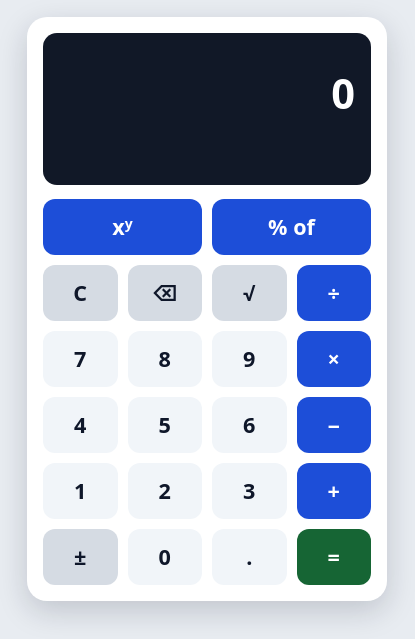
App › shows the server message and keeps the expression visible on an API error
Click the button "5".
click(165, 425)  # box [128,397,202,453]
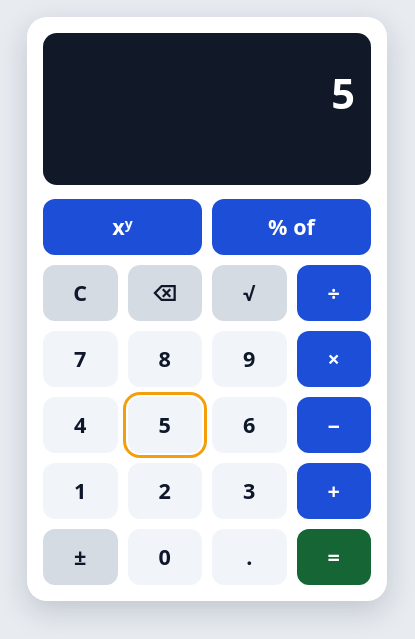
Click the button named "divide".
click(334, 293)  # box [296,265,371,321]
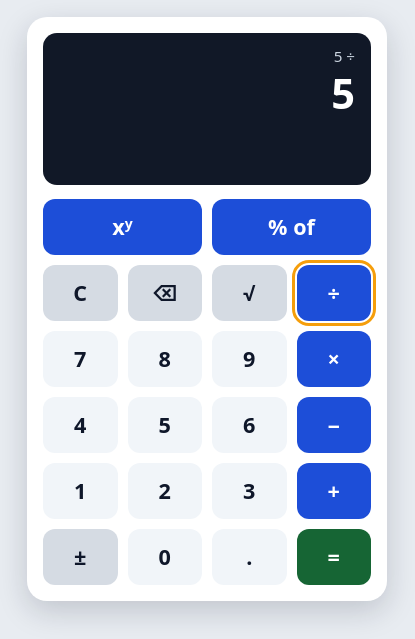
Click the button "0".
click(165, 557)  # box [128,529,202,585]
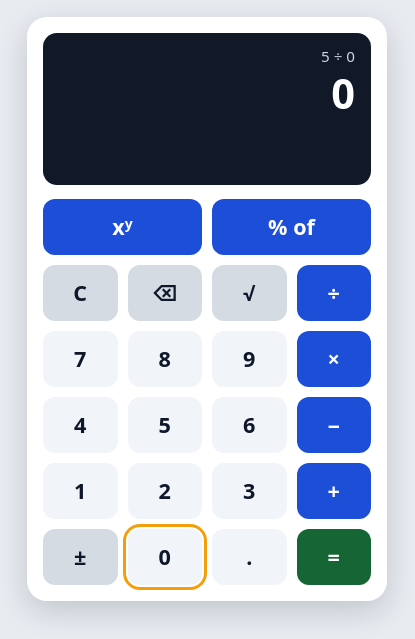
Click the button named "equals".
click(334, 557)  # box [296,529,371,585]
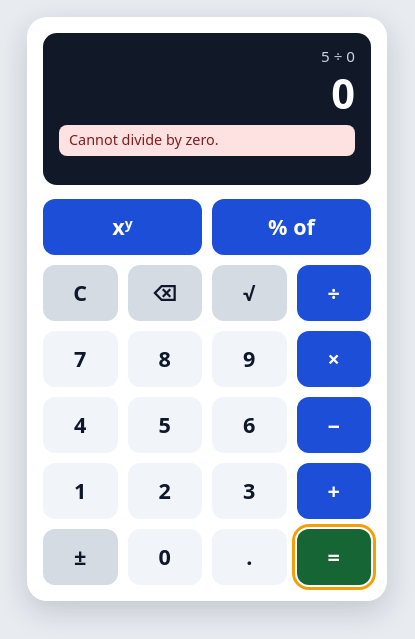
expect the message reads "Cannot divide by zero.": met, box [69,130,219,149]
